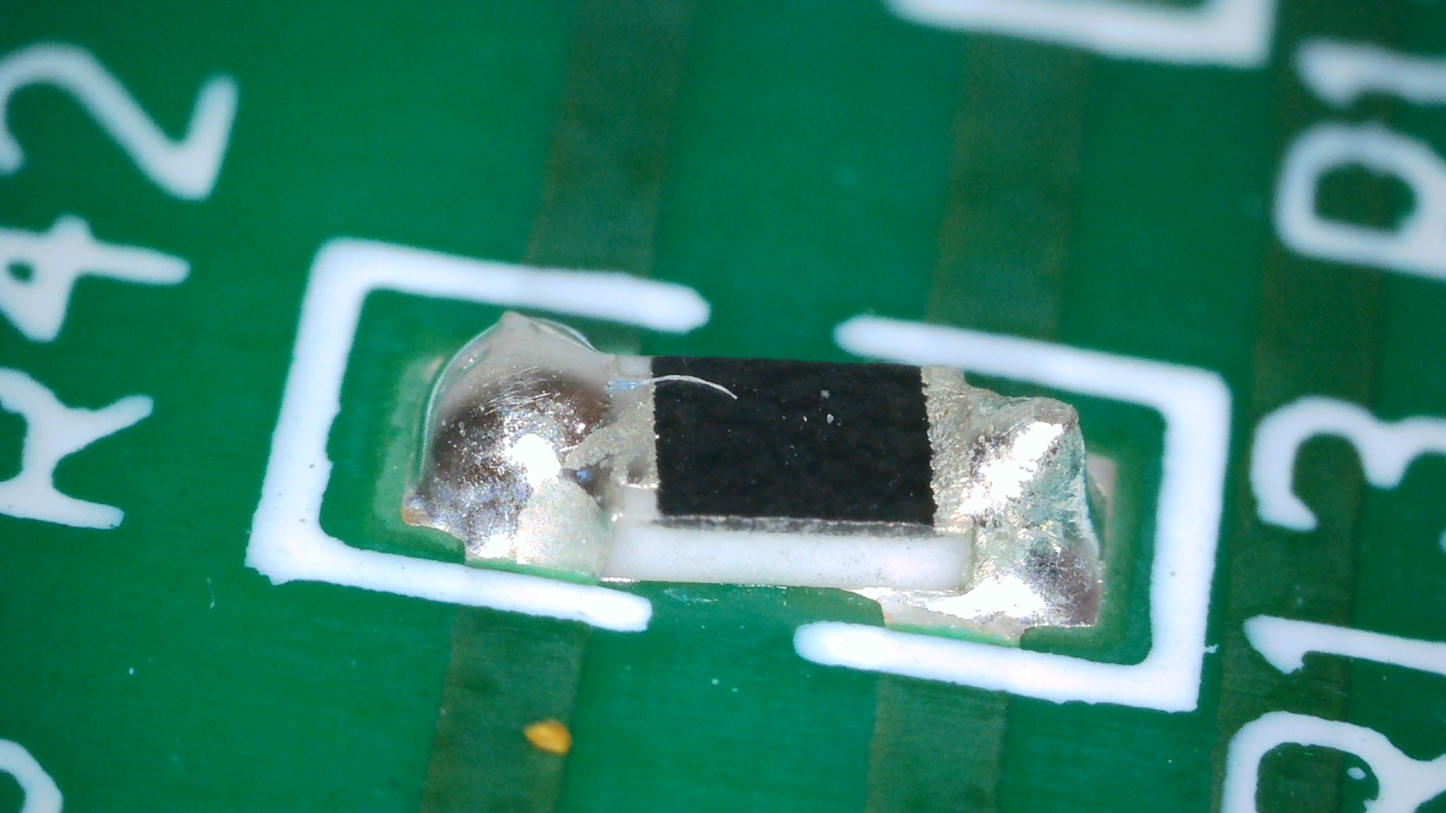NG: (405, 313, 659, 577), (921, 390, 1098, 622), (489, 313, 597, 358)
